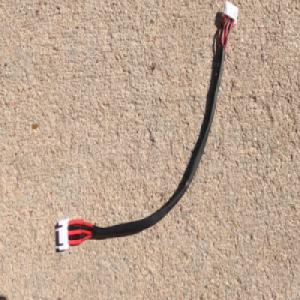Wire: (56, 0, 239, 252)
